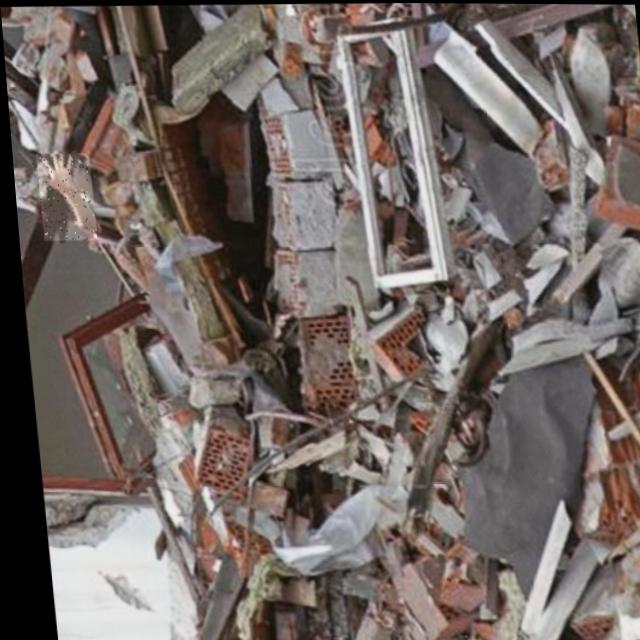Person in Rubble: (33, 152, 93, 241)
